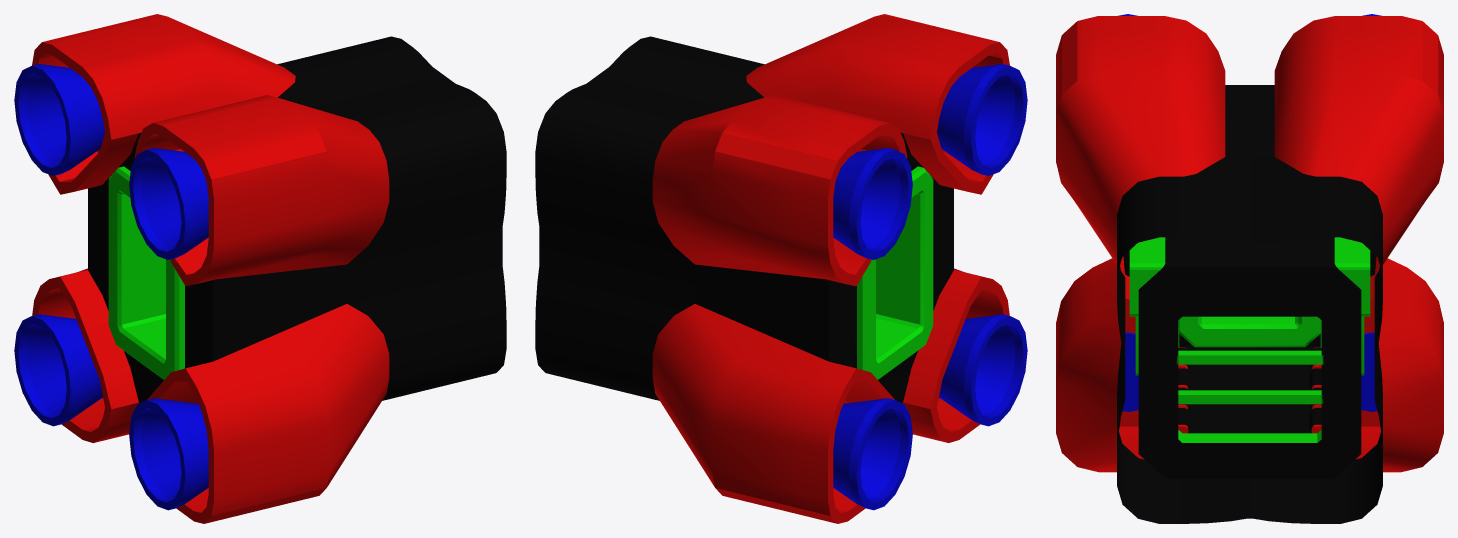
Rendered from SM_Escapepod_Pod.fbx.
The picture shows the model from 3 angles, left to right: view 1: azimuth 30°, elevation 25°; view 2: azimuth 150°, elevation 25°; view 3: azimuth 270°, elevation 25°; orthographic projection. The views are drawn at different scales.
Parts seen in each view (by area): view 1: SM_Escapepod_Pod; view 2: SM_Escapepod_Pod; view 3: SM_Escapepod_Pod.
Part boxes in pixels (x1,y1,x2,y2): SM_Escapepod_Pod: (14,14,506,523); SM_Escapepod_Pod: (535,14,1027,523); SM_Escapepod_Pod: (1056,14,1443,523).
Bounding box in the file's own units: 720 × 745 × 661.
